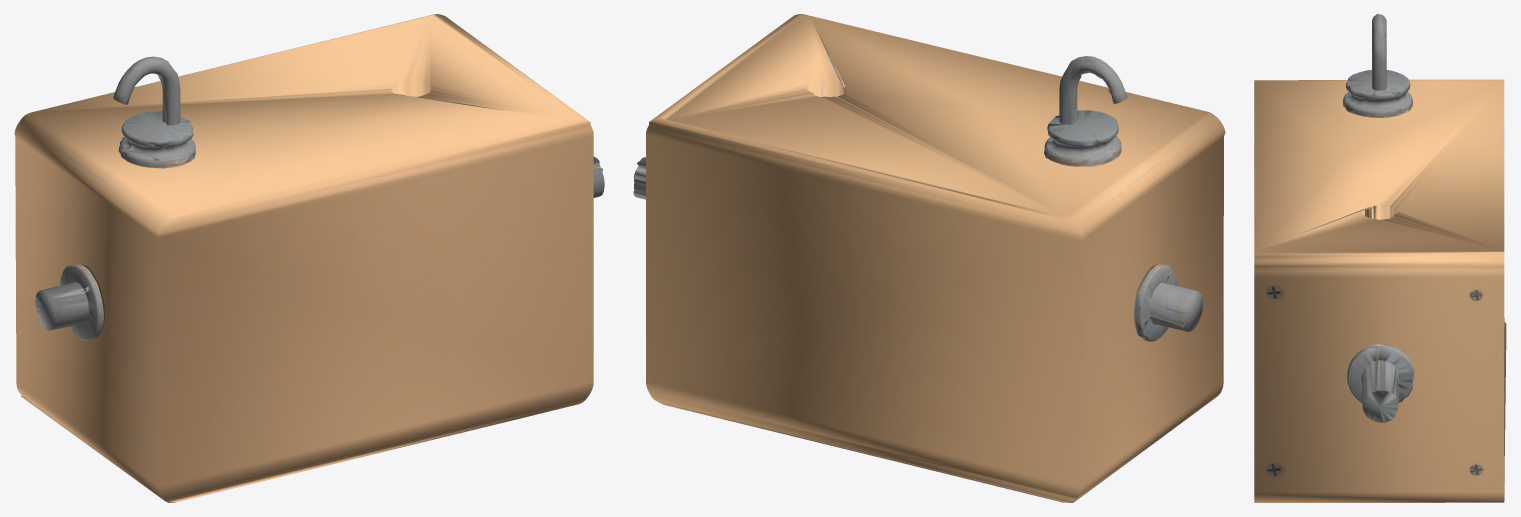
Rendered from wood-block.glb.
The picture shows the model from 3 angles, left to right: view 1: azimuth 30°, elevation 25°; view 2: azimuth 150°, elevation 25°; view 3: azimuth 270°, elevation 25°; orthographic projection. The views are drawn at different scales.
Size of the model in its own units: 0.9526 by 0.6313 by 0.4331.
1 material, 1 textured.
